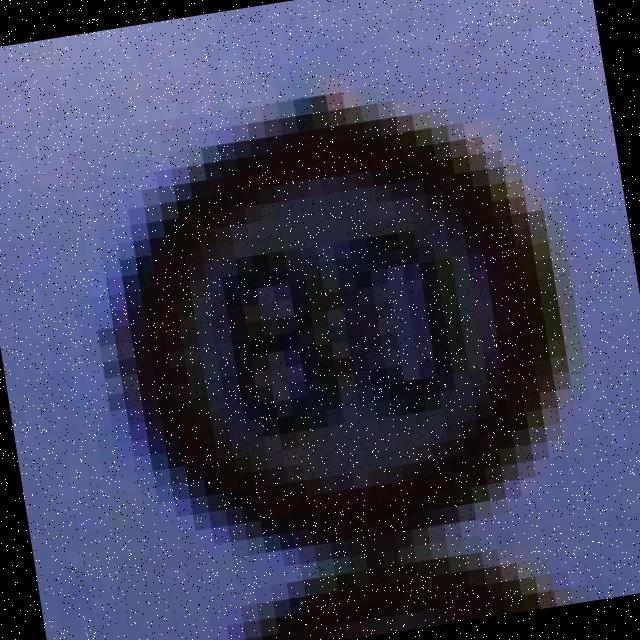Ograniczenie predkosci do 80: (102, 94, 581, 577)
